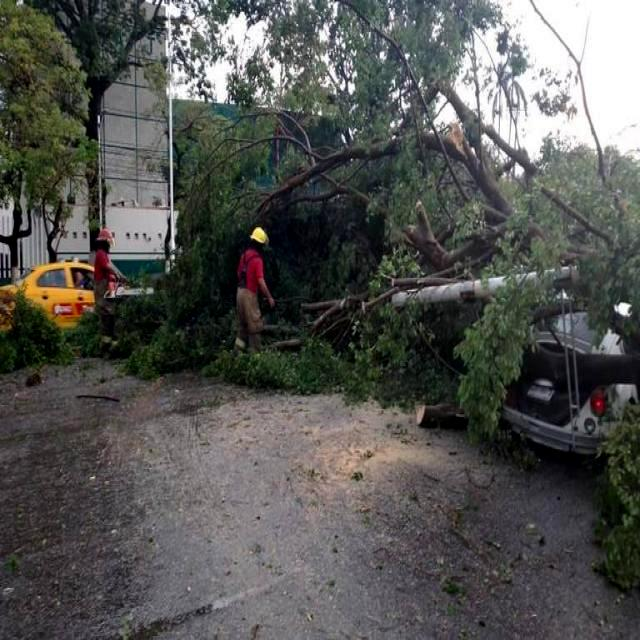Broken Pole: (394, 263, 575, 309)
